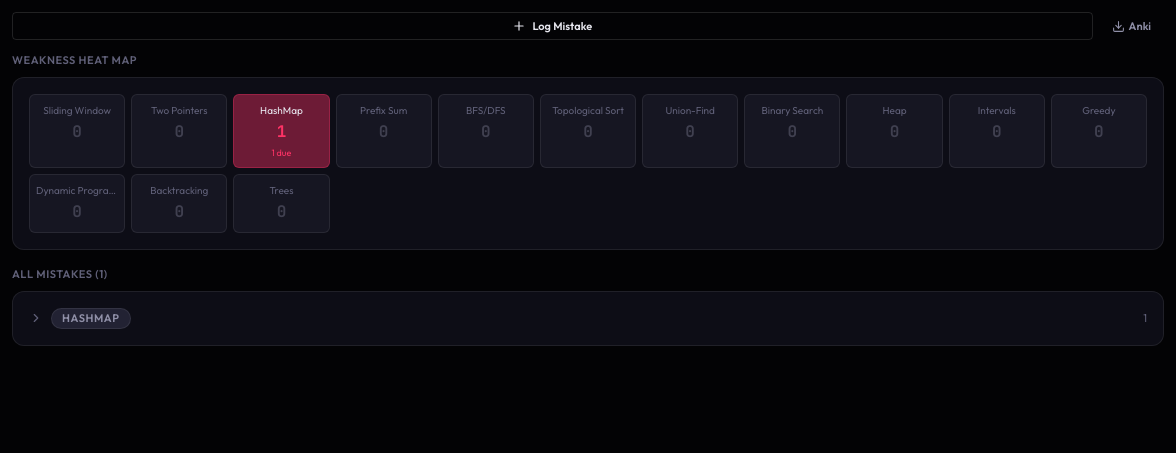
it: MistakesPanel › mistake list › renders mistake description after expanding group
Click the button "HashMap 1": (91, 318) [29,308,1147,328]
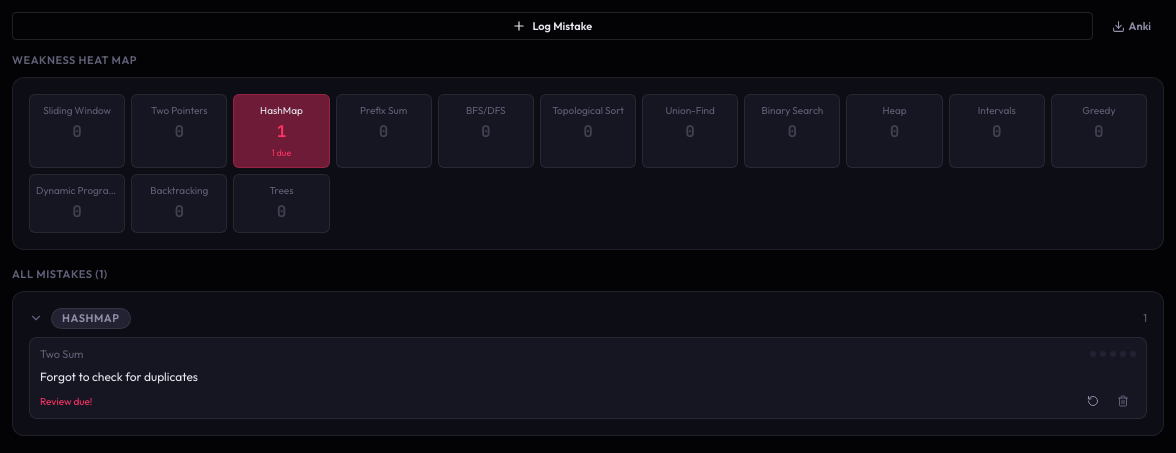
Expected: the text "Forgot to check for duplicates" is shown, [40,369,198,384]
